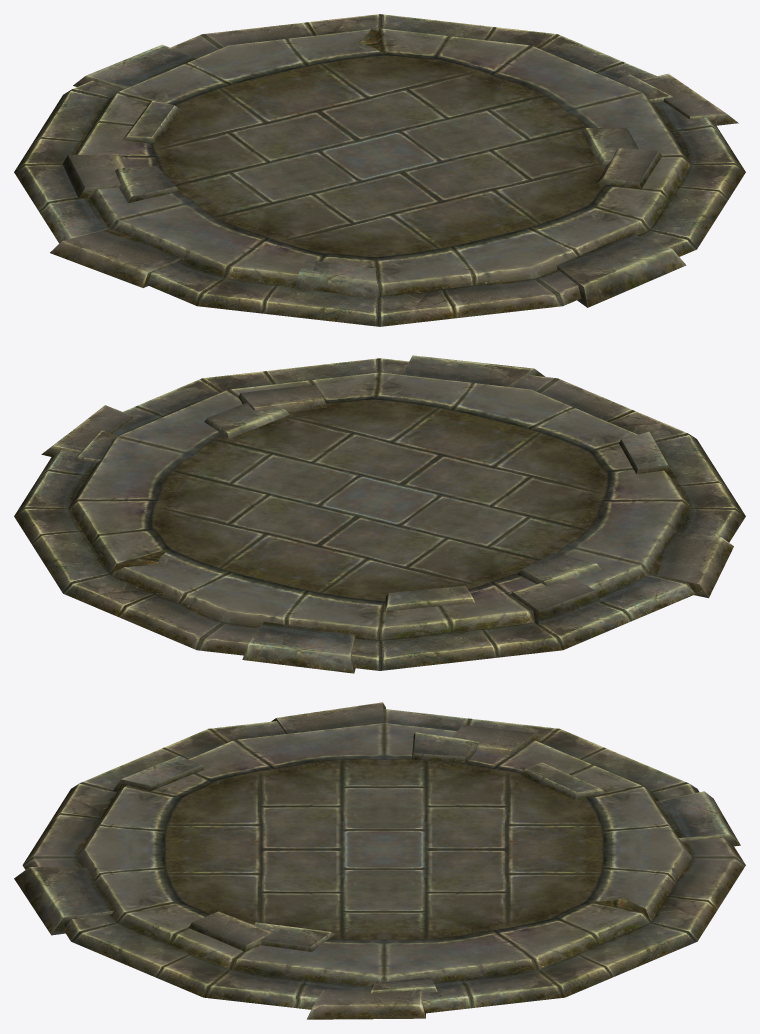
The model's file is C_yuantai001.fbx.
The picture shows the model from 3 angles, top to bottom: view 1: azimuth 30°, elevation 25°; view 2: azimuth 150°, elevation 25°; view 3: azimuth 270°, elevation 25°; orthographic projection.
Visible parts, largest first — view 1: C_yuantai001; view 2: C_yuantai001; view 3: C_yuantai001.
Boxes of the visible parts, x1,y1,x2,y2 form: C_yuantai001: [14, 14, 745, 326]; C_yuantai001: [14, 355, 745, 673]; C_yuantai001: [14, 702, 745, 1019].
Size of the model in its own units: 931 by 34.14 by 919.
